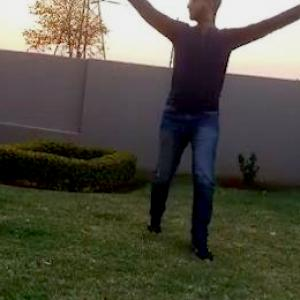takeoff: (115, 0, 299, 246)
